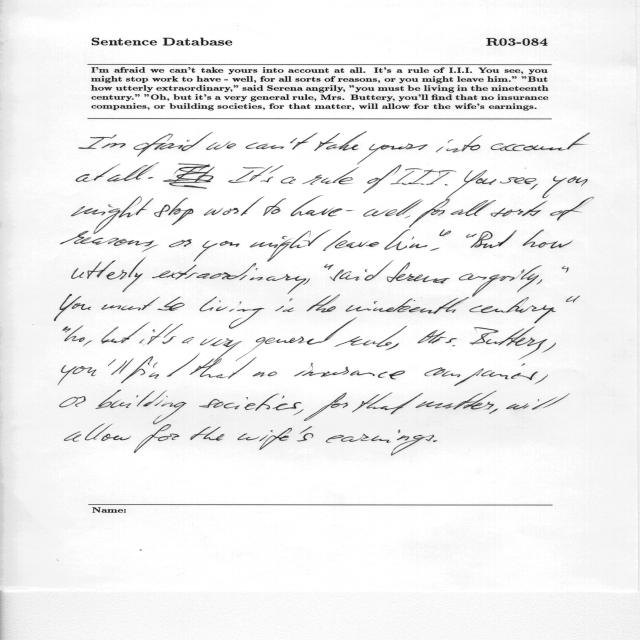word: (236, 318, 357, 361), (152, 263, 306, 294), (321, 165, 456, 193), (453, 327, 548, 360), (72, 196, 154, 234), (96, 390, 187, 424), (326, 430, 434, 456), (459, 265, 542, 297), (424, 363, 538, 386), (250, 230, 331, 262), (72, 257, 146, 292), (121, 353, 200, 383), (469, 297, 556, 323), (200, 296, 265, 329), (345, 297, 469, 314), (133, 132, 213, 157), (238, 426, 314, 450), (491, 133, 590, 151), (294, 363, 405, 379), (199, 394, 302, 411), (352, 393, 423, 415), (415, 391, 497, 410), (358, 143, 428, 165), (335, 326, 408, 347), (409, 194, 453, 228), (190, 357, 257, 379), (60, 231, 154, 246), (387, 262, 450, 284), (163, 163, 215, 189), (384, 230, 451, 250), (134, 424, 179, 453), (304, 392, 348, 421), (246, 133, 318, 150), (64, 424, 131, 442), (291, 195, 343, 217), (204, 197, 264, 216), (339, 260, 393, 281), (323, 231, 379, 251), (506, 393, 570, 410), (101, 322, 150, 344), (363, 199, 422, 217), (314, 131, 367, 151), (154, 198, 193, 225), (452, 170, 496, 193), (542, 176, 588, 198), (550, 197, 594, 220), (200, 338, 242, 362), (55, 294, 92, 321), (107, 163, 159, 182), (194, 241, 240, 262), (523, 230, 573, 249), (490, 201, 548, 217), (470, 230, 517, 248), (436, 135, 482, 153), (76, 164, 119, 182), (58, 365, 96, 385), (229, 166, 273, 183), (451, 200, 496, 216), (139, 324, 173, 345), (303, 264, 334, 285), (536, 266, 569, 284), (307, 295, 340, 313), (79, 134, 117, 149), (418, 330, 458, 343), (191, 426, 225, 441), (121, 297, 159, 310), (108, 358, 134, 375), (162, 324, 183, 344), (263, 198, 286, 216), (158, 296, 185, 311), (261, 166, 283, 183), (64, 325, 85, 342), (60, 397, 86, 408), (206, 141, 236, 150), (275, 298, 294, 312), (500, 177, 536, 184), (303, 175, 322, 185), (169, 240, 192, 248), (330, 270, 344, 281), (253, 371, 277, 377), (542, 343, 556, 353), (534, 374, 548, 384), (101, 143, 126, 148), (102, 304, 122, 310), (142, 245, 158, 252), (281, 177, 296, 184), (566, 296, 580, 303), (385, 343, 399, 350), (182, 337, 194, 344), (293, 409, 304, 415), (466, 233, 477, 238), (529, 184, 538, 190), (83, 341, 92, 347), (489, 408, 498, 414), (63, 327, 71, 333), (430, 248, 440, 251), (405, 216, 410, 219), (149, 177, 154, 179), (433, 440, 437, 442), (346, 211, 353, 212)
